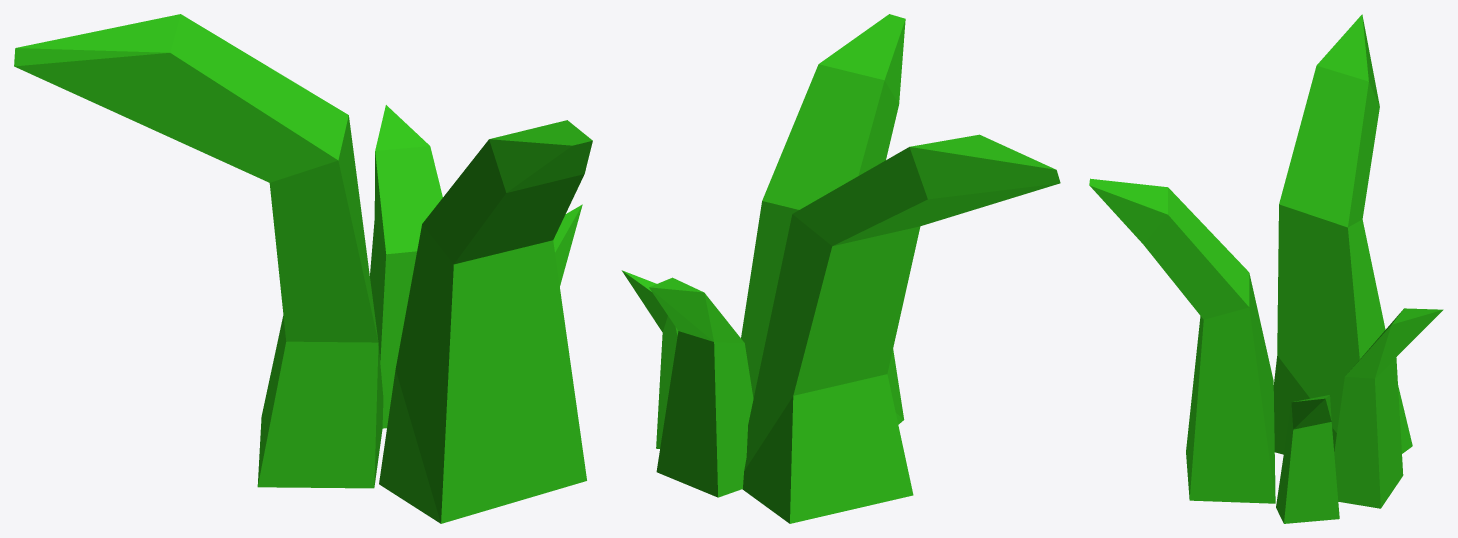
The model's file is Grass.fbx.
The picture shows the model from 3 angles, left to right: view 1: azimuth 30°, elevation 25°; view 2: azimuth 150°, elevation 25°; view 3: azimuth 270°, elevation 25°; orthographic projection. The views are drawn at different scales.
Visible parts, largest first — view 1: Grass; view 2: Grass; view 3: Grass.
Part boxes in pixels (bbox=[...]): Grass: bbox=[14, 14, 592, 523]; Grass: bbox=[621, 14, 1060, 523]; Grass: bbox=[1089, 14, 1443, 523].
Bounding box in the file's own units: 22.06 × 22.9 × 28.2.
